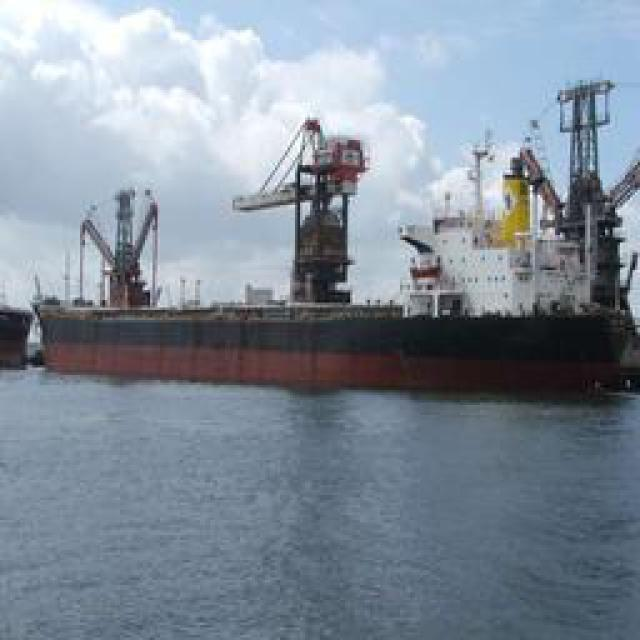Ship: (66, 97, 636, 377)
